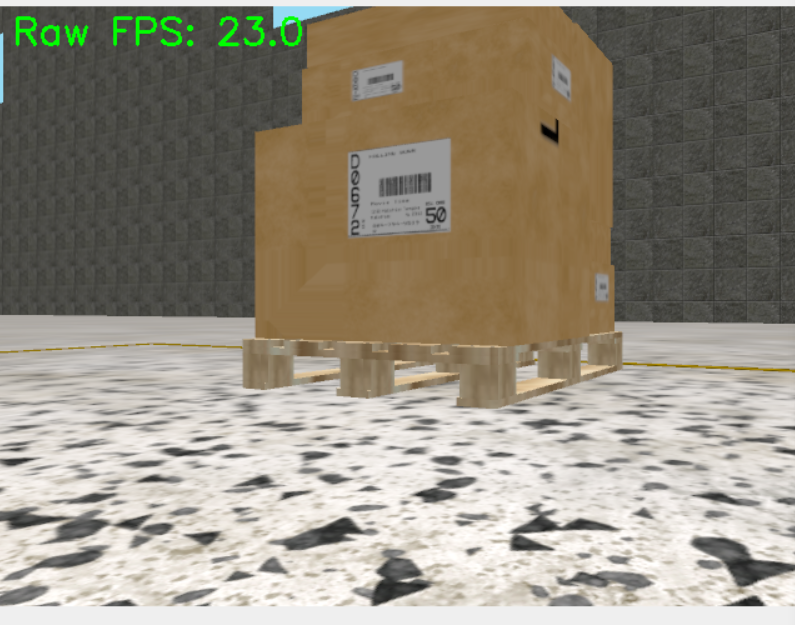barcode: (347, 137, 451, 238), (351, 60, 405, 102), (551, 55, 573, 103), (594, 272, 611, 304)
